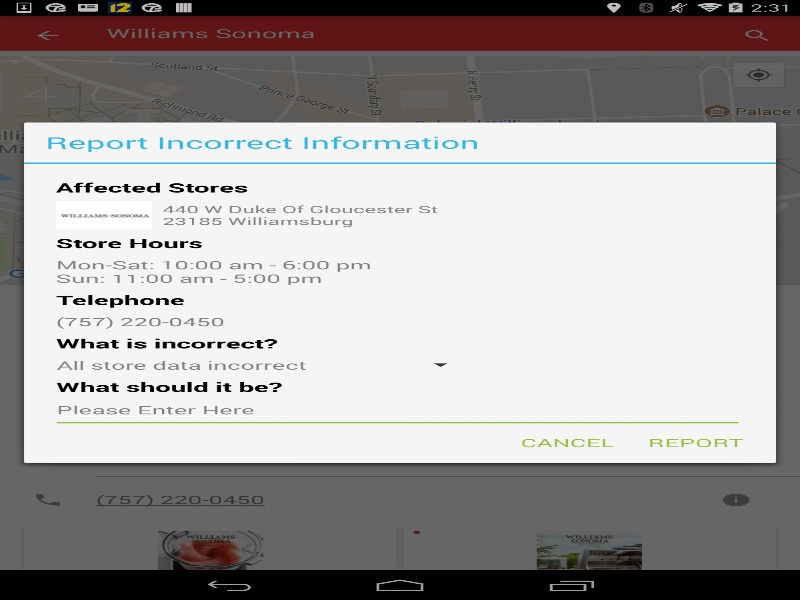Button: (508, 427, 626, 457), (636, 427, 754, 457)
Input: (51, 395, 744, 427)
